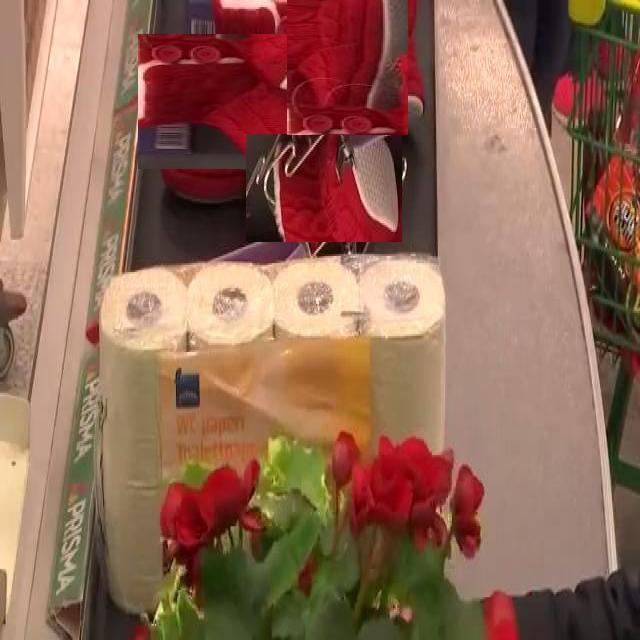utility-box: (102, 254, 451, 608), (154, 18, 321, 185), (280, 0, 415, 128), (245, 133, 402, 242)
